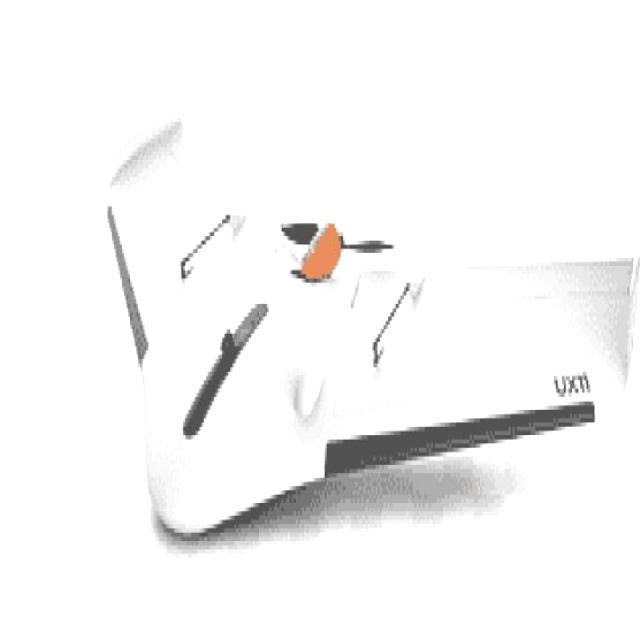plane: (102, 51, 640, 540)
